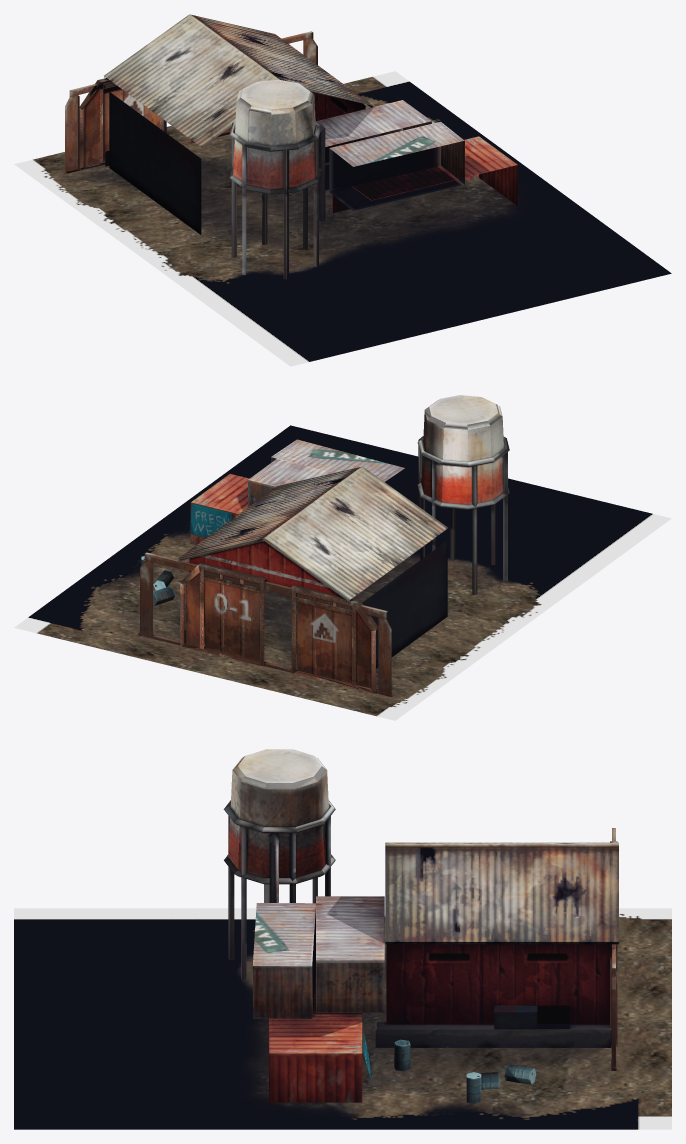
File: dijiao.FBX
The picture shows the model from 3 angles, top to bottom: view 1: azimuth 30°, elevation 25°; view 2: azimuth 150°, elevation 25°; view 3: azimuth 270°, elevation 25°; orthographic projection. The views are drawn at different scales.
Parts seen in each view (by area): view 1: dijiao_di, dijiao; view 2: dijiao, dijiao_di; view 3: dijiao_di, dijiao.
Boxes of the visible parts, x1,y1,x2,y2 form: dijiao_di: (14, 71, 671, 366); dijiao: (63, 14, 517, 279); dijiao: (138, 395, 509, 697); dijiao_di: (14, 425, 671, 720); dijiao_di: (14, 908, 671, 1129); dijiao: (223, 749, 618, 1103).
Size of the model in its own units: 649 by 274 by 815.
2 materials, 2 textured.
